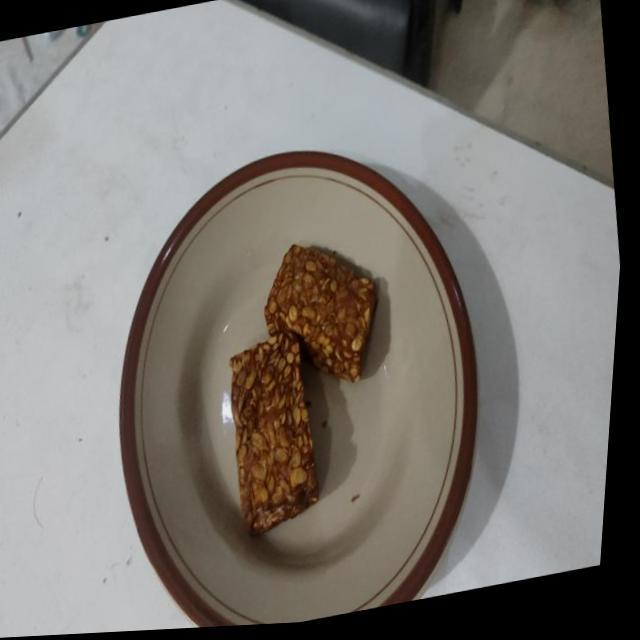tempe_goreng: (230, 332, 318, 533), (264, 245, 376, 382)
